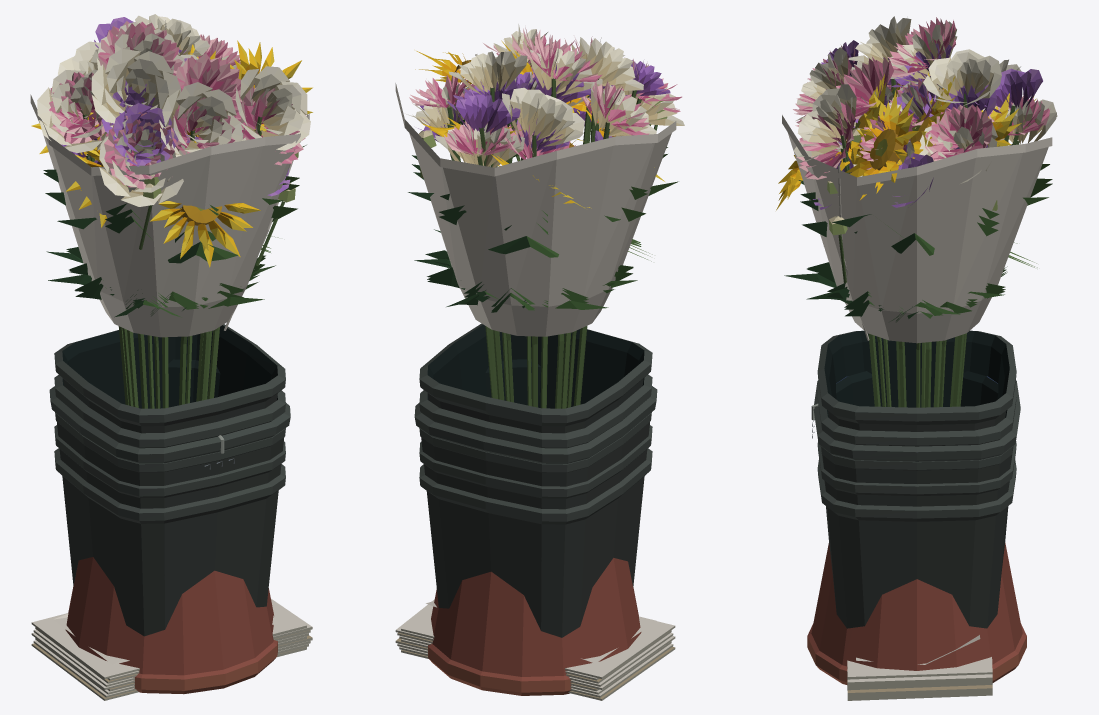
Rendered from cutflowers.glb.
3 renders of one model, left to right at view 1: azimuth 30°, elevation 25°; view 2: azimuth 150°, elevation 25°; view 3: azimuth 270°, elevation 25°, orthographic.
Parts seen in each view (by area): view 1: Ivory, BlackStack, Sleeve, Pink, Riser, Violet, Sunflower, WorkPapers; view 2: Sleeve, Ivory, BlackStack, Pink, Riser, Violet, Sunflower, WorkPapers; view 3: Sleeve, Ivory, BlackStack, Pink, Violet, Riser, Sunflower, WorkPapers.
Part boxes in pixels (x1,y1,x2,y2): Ivory: (37,14,310,634); BlackStack: (54,324,285,523); Sleeve: (43,134,298,337); Pink: (30,21,309,636); Riser: (65,557,277,694); Violet: (45,17,297,629); Sunflower: (31,40,312,469); WorkPapers: (31,599,312,700); Sleeve: (409,133,671,336); Ivory: (406,24,684,637); BlackStack: (419,323,652,524); Pink: (395,27,681,637); Riser: (428,558,641,695); Violet: (413,60,670,629); Sunflower: (408,40,678,408); WorkPapers: (395,599,675,700); Sleeve: (787,132,1048,343); Ivory: (794,16,1057,627); BlackStack: (817,330,1016,521); Pink: (782,17,1052,628); Violet: (802,40,1049,622); Riser: (807,542,1026,684); Sunflower: (776,72,1048,437); WorkPapers: (847,635,992,700).
Bounding box in the file's own units: 0.4821 × 0.9946 × 0.5047.
